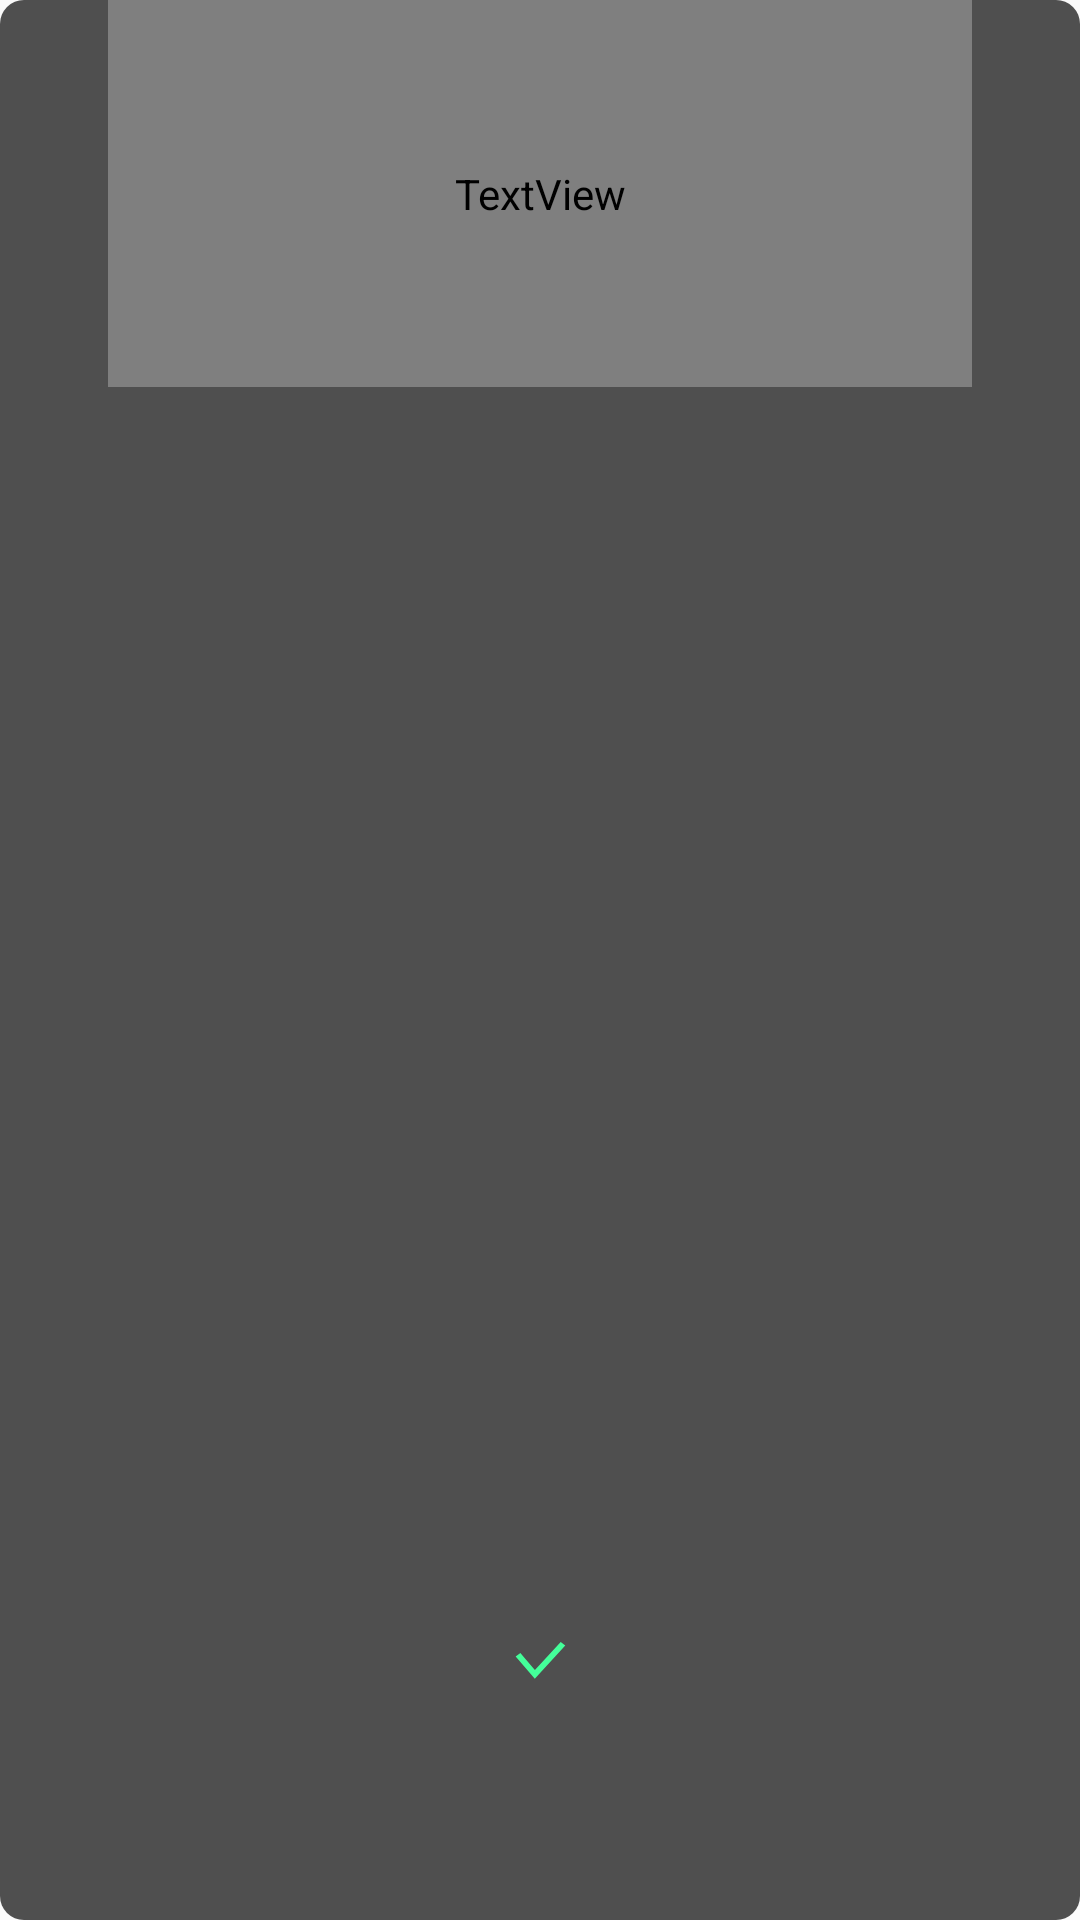

Icon click points for this 1080x1920 phone screenshot, format (x=x, y=y):
check: (x=540, y=1660)
